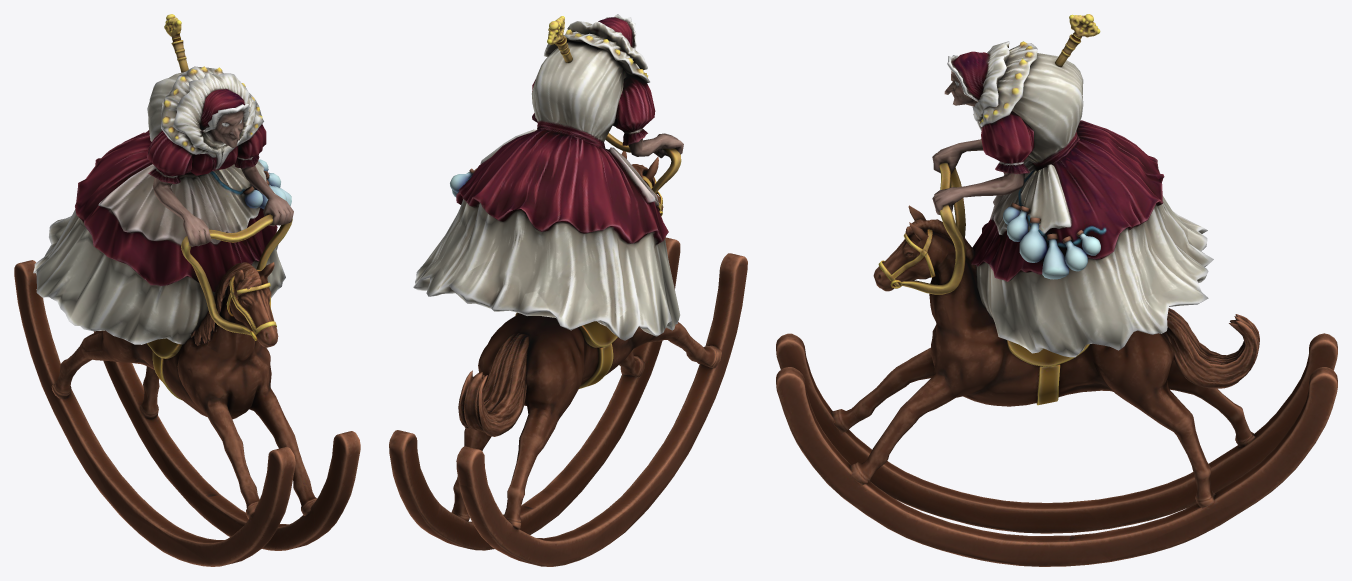
Rendered from MZ4250 - Skabatha Nightshade.glb.
3 renders of one model, left to right at view 1: azimuth 30°, elevation 25°; view 2: azimuth 150°, elevation 25°; view 3: azimuth 270°, elevation 25°, orthographic. The views are drawn at different scales.
Parts seen in each view (by area): view 1: 01_low.001, 04_high.002, 07_high.002, 03_high.002, 06_high.002, 02_high.002, 05_high.002; view 2: 01_low.001, 04_high.002, 07_high.002, 02_high.002, 03_high.002, 05_high.002; view 3: 01_low.001, 04_high.002, 07_high.002, 06_high.002, 03_high.002, 02_high.002, 05_high.002.
Boxes of the visible parts, left/top/right/bottom form: 01_low.001: left=33, top=66, right=293, bottom=344; 04_high.002: left=14, top=260, right=360, bottom=566; 07_high.002: left=51, top=262, right=317, bottom=519; 03_high.002: left=181, top=214, right=292, bottom=340; 06_high.002: left=243, top=159, right=291, bottom=209; 02_high.002: left=147, top=338, right=181, bottom=399; 05_high.002: left=164, top=14, right=188, bottom=72; 01_low.001: left=413, top=14, right=683, bottom=340; 04_high.002: left=389, top=237, right=747, bottom=566; 07_high.002: left=451, top=151, right=721, bottom=530; 02_high.002: left=515, top=312, right=617, bottom=388; 03_high.002: left=605, top=133, right=681, bottom=216; 05_high.002: left=547, top=16, right=572, bottom=62; 01_low.001: left=932, top=41, right=1213, bottom=357; 04_high.002: left=776, top=333, right=1337, bottom=566; 07_high.002: left=831, top=205, right=1259, bottom=508; 06_high.002: left=1003, top=202, right=1100, bottom=279; 03_high.002: left=878, top=162, right=965, bottom=294; 02_high.002: left=1006, top=340, right=1090, bottom=405; 05_high.002: left=1055, top=14, right=1100, bottom=66.
Bounding box in the file's own units: 3.06 × 6.43 × 6.16.
1 material, 1 textured.
